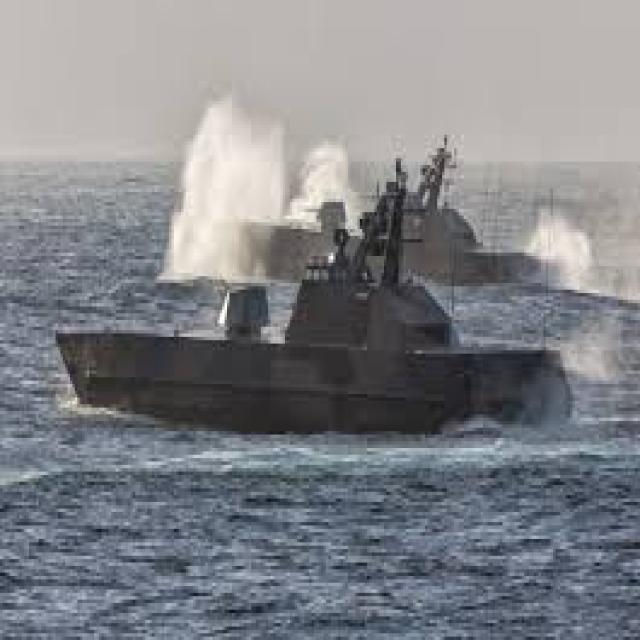navalvessels: (58, 243, 564, 464), (217, 154, 590, 298)
